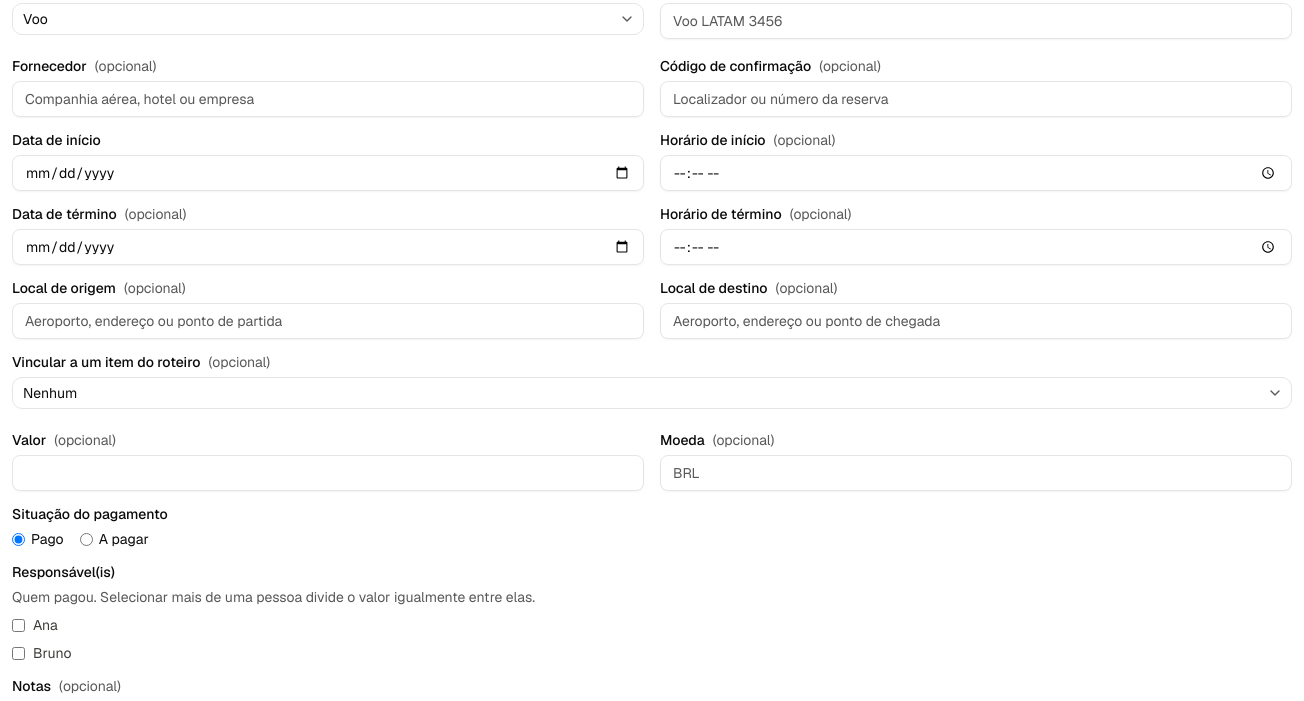
ReservationForm › clears fields and resets payment status/responsible selections after successfully adding a new reservation (#204)
Type "Taxi ao museu" into the field labelled "Título".
click(976, 21); type("Taxi ao museu")  # box [660,3,1292,39]
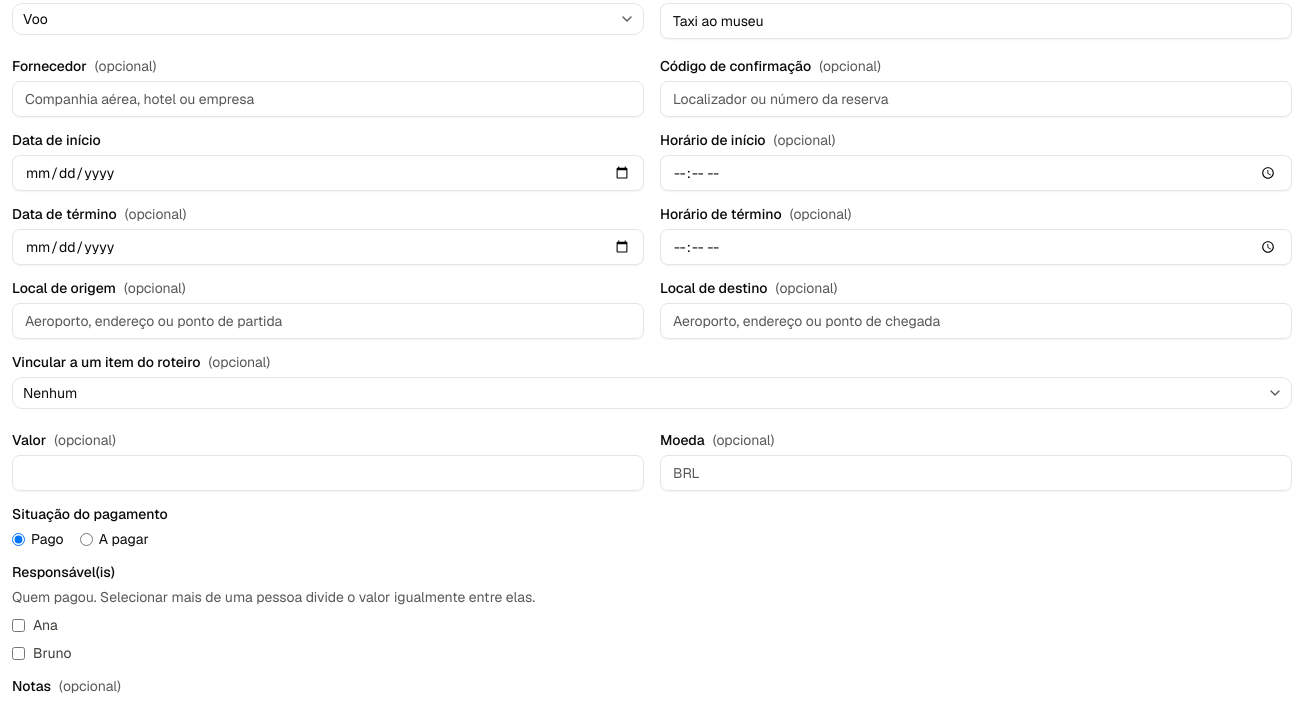
Type "2026-09-20" into the date field labelled "Data de início".
click(328, 173); type("2026-09-20")  # box [12,155,644,191]
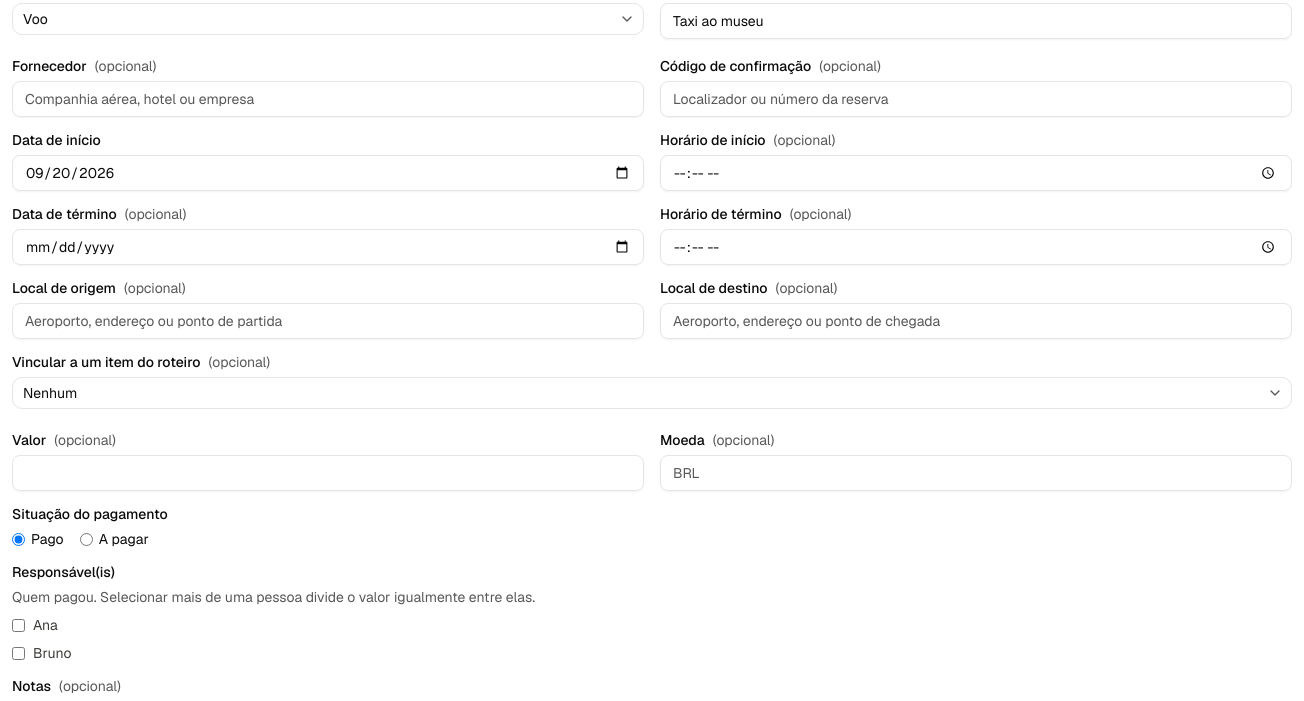
Type "100" into the number field labelled "Valor (opcional)".
click(328, 473); type("100")  # box [12,455,644,491]
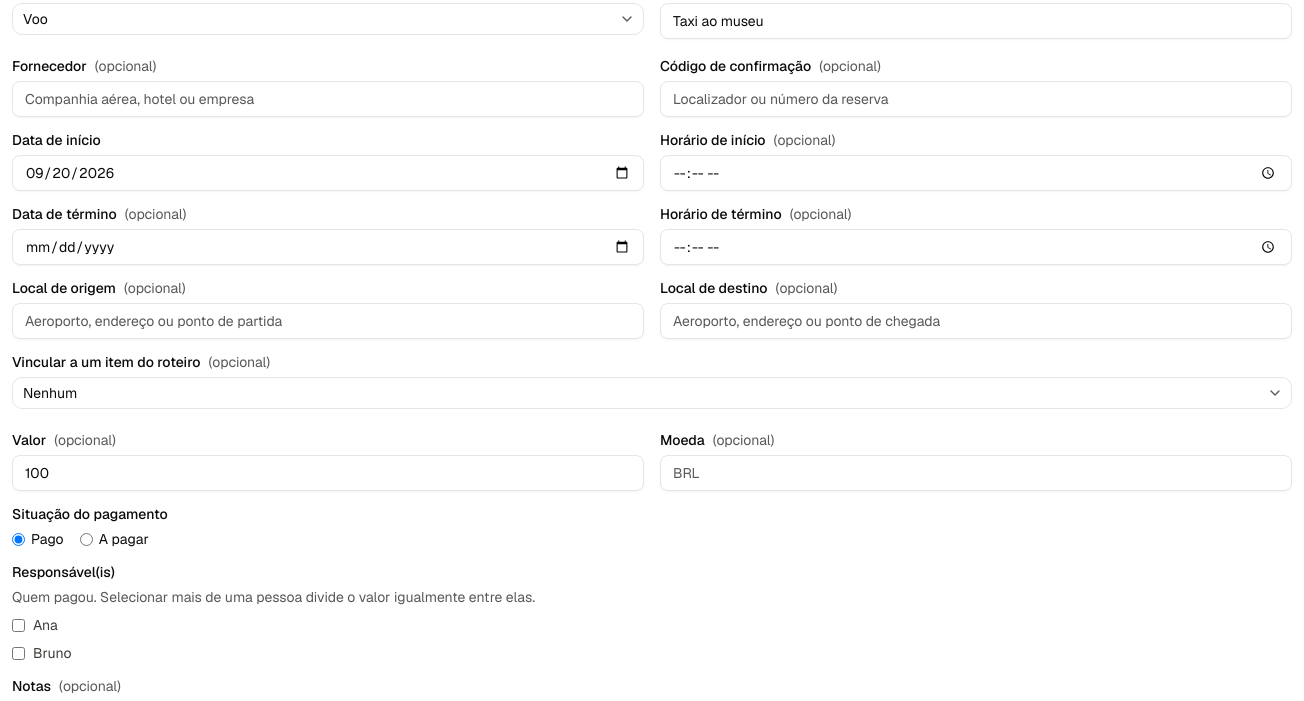
Click the radio button labelled "A pagar".
click(86, 539)  # box [80,532,93,546]
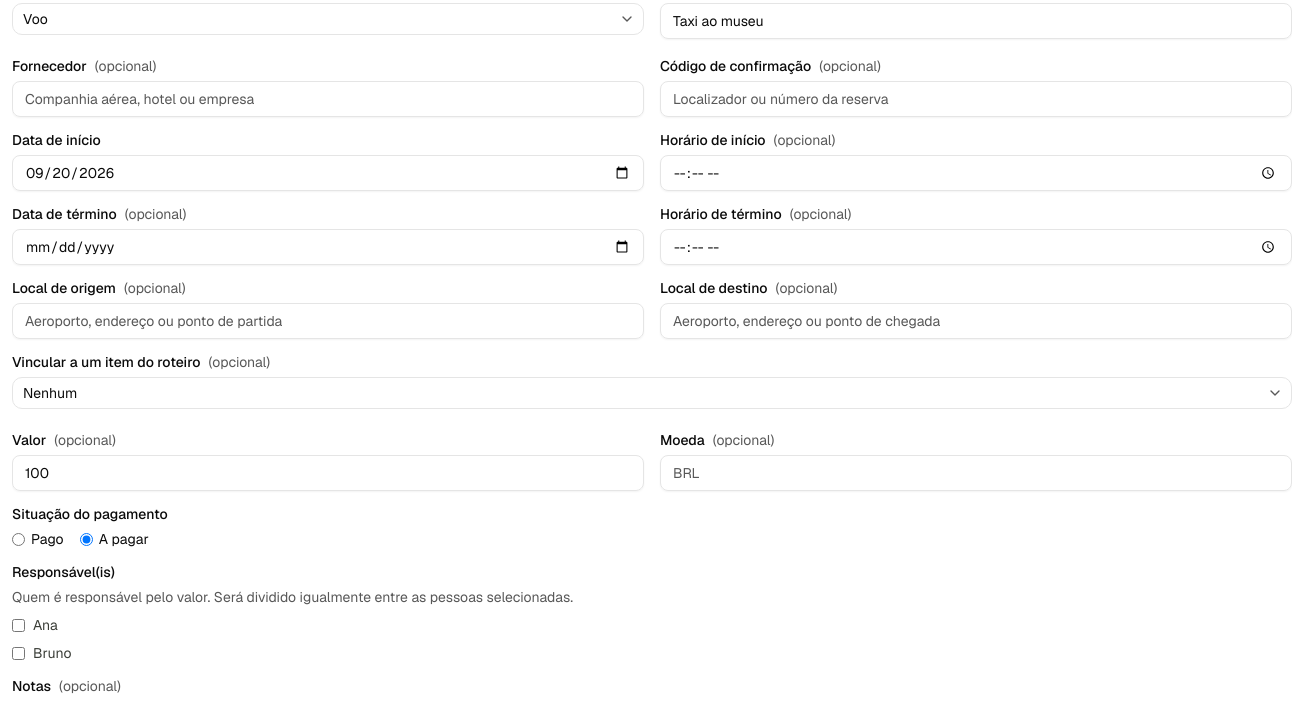
Click the checkbox labelled "Ana".
click(18, 625)  # box [12,618,25,632]
(page scrolled)
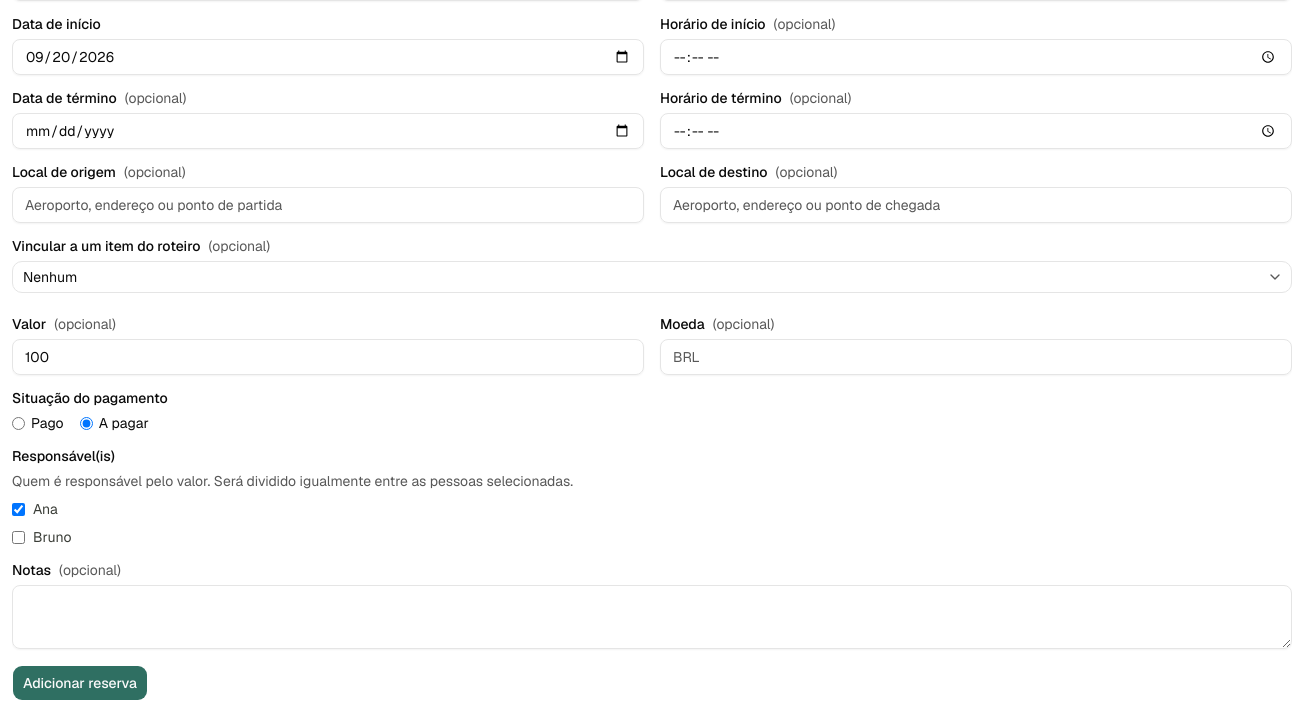
Click the button "Adicionar reserva".
click(80, 683)  # box [12,665,148,700]
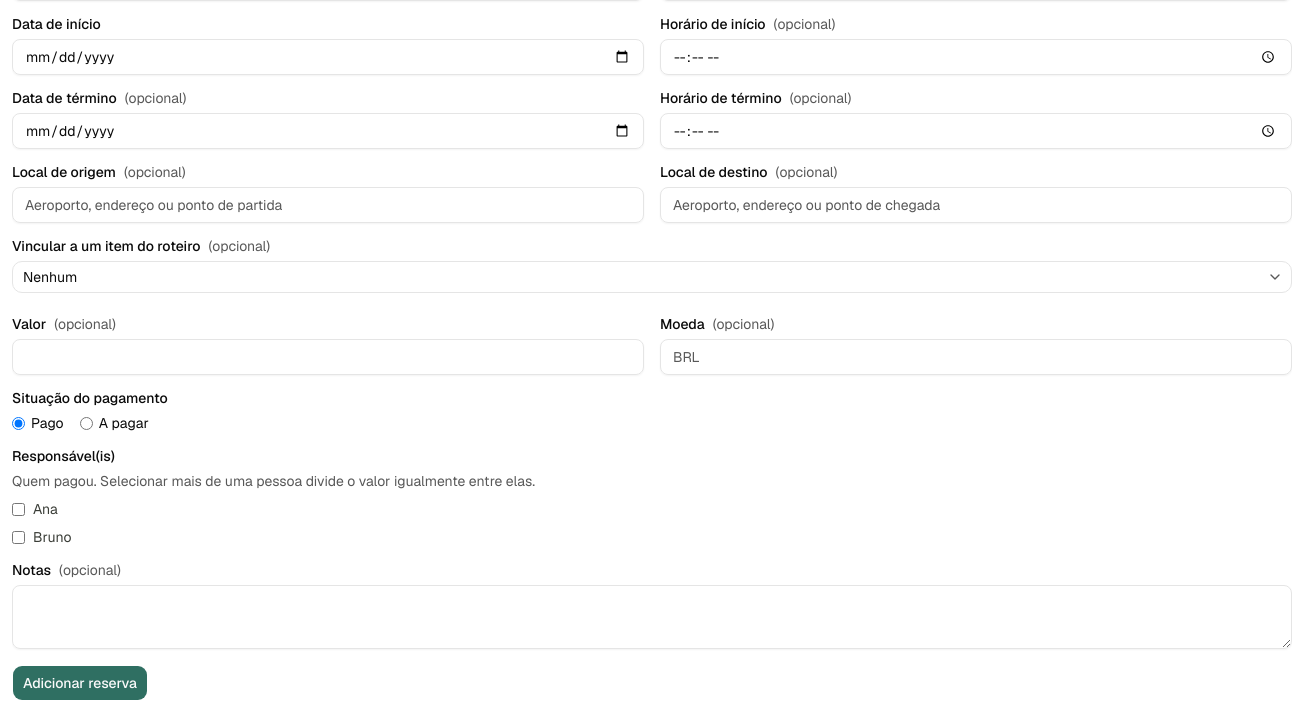
Expected: the number field labelled "Valor (opcional)" is empty, [12,339,644,375]
Expected: the radio button labelled "Pago" is checked, [12,416,25,430]
Expected: the checkbox labelled "Ana" is not checked, [12,502,25,516]
